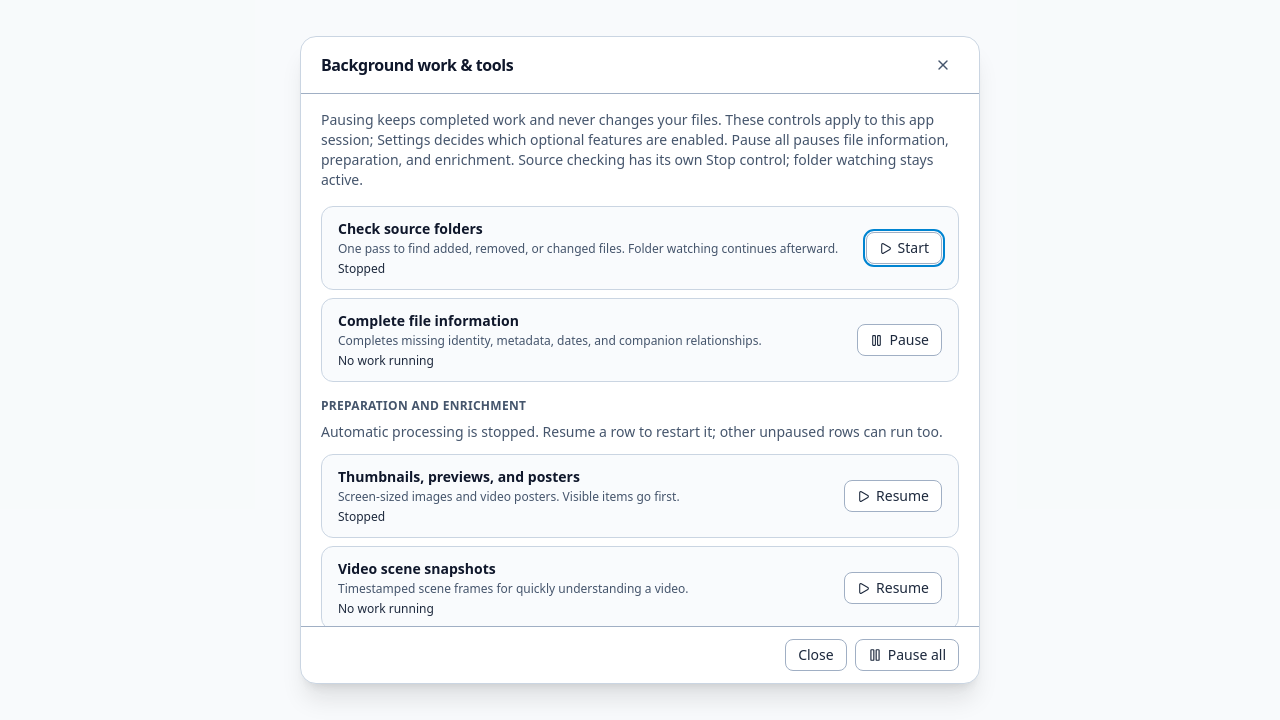
Test: Background work › directly resumes stopped processing without unpausing other classes or enabling Settings-disabled work
The width and height of the screenshot is (1280, 720).
Expected: the list item that starts with "Thumbnails, previews, and posters" shows "Stopped", [338,508,385,525]
Click the button "Resume" in the row of "Thumbnails, previews, and posters".
click(893, 496)  # box [844,480,942,512]
(page scrolled)
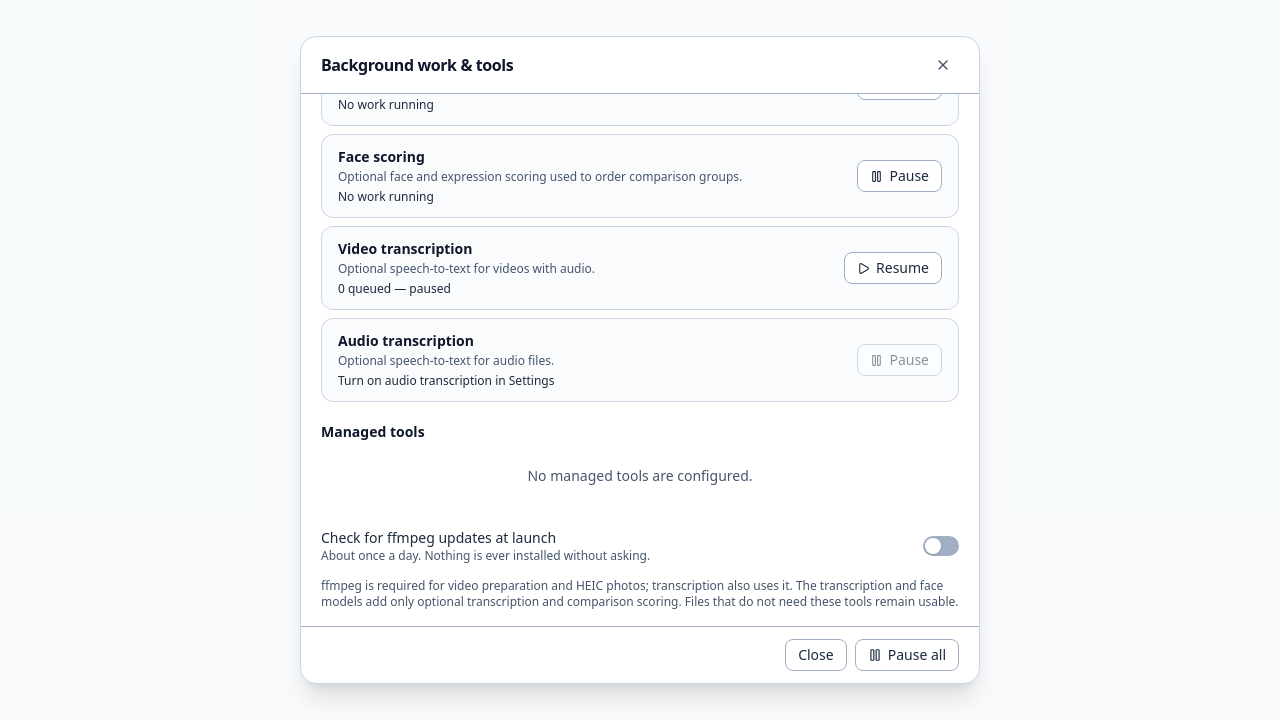
Now the button "Pause" in the row of "Optional speech-to-text for audio files." is disabled, box [857,344,942,376]
